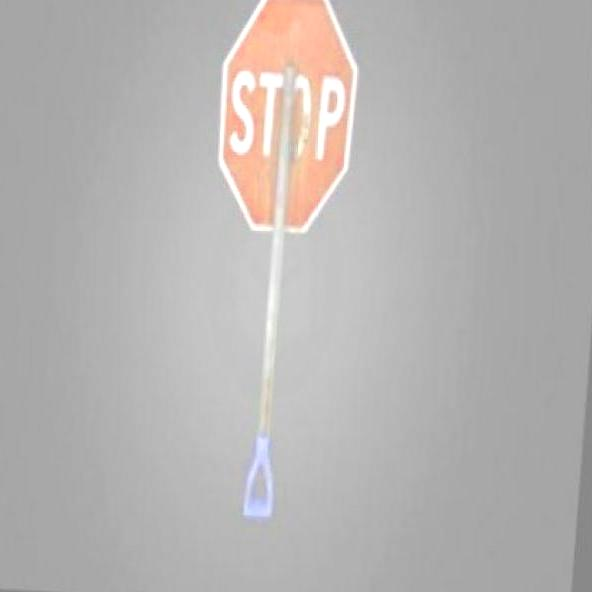stop_sign: (208, 0, 363, 234)
